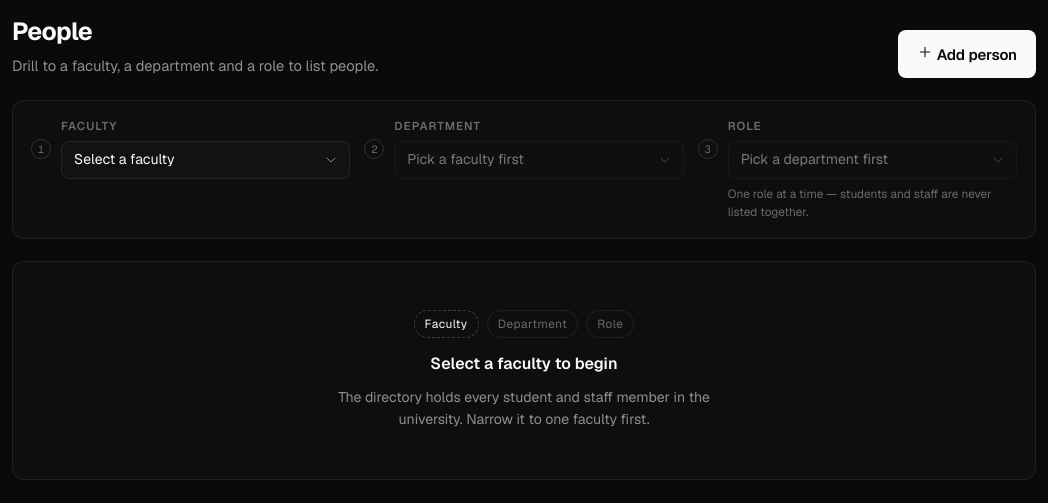
Test: PeoplePage drill-down › lists nobody until a faculty, department and role are chosen
Check: the text "Select a faculty to begin" is shown, box [430,352,618,377]
Select "NAS — Natural and Applied Sciences" in the dropdown named "Faculty" at (206, 160), box [61,141,350,179]
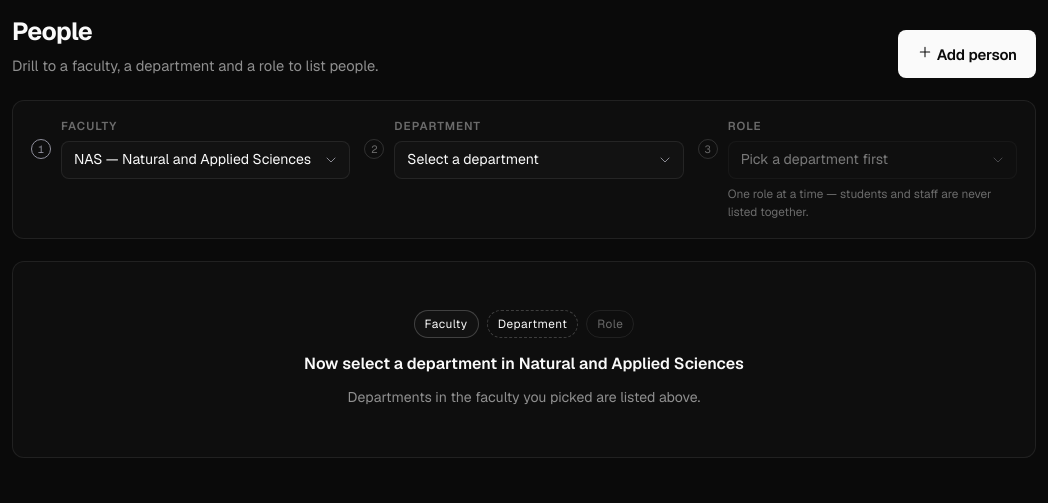
Check: the text "Now select a department in Natural and Applied Sciences" is shown, box [304,352,744,377]
Select "CSC — Computer Science" in the dropdown named "Department" at (539, 160), box [394,141,684,179]
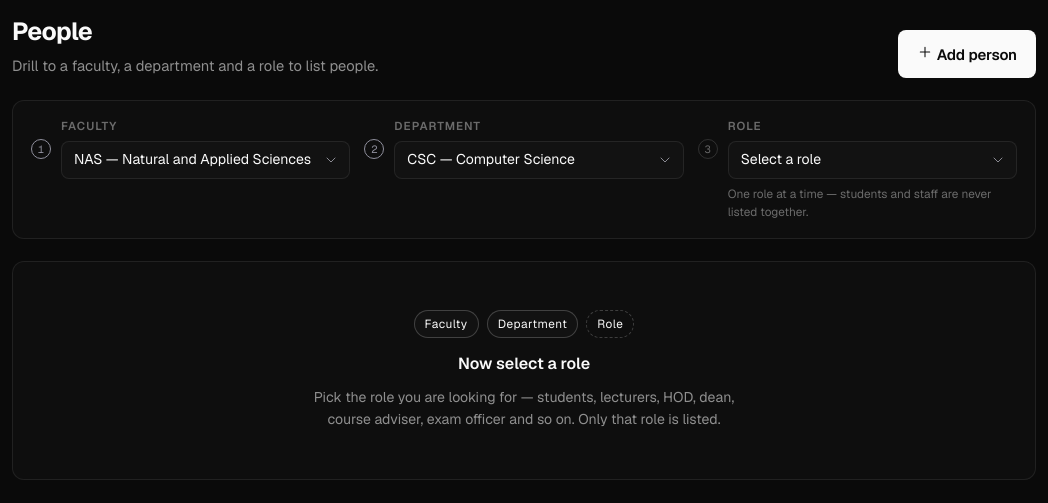
Check: the text "Now select a role" is shown, box [458,352,590,377]
Select "Student" in the dropdown named "Role" at (872, 160), box [728,141,1017,179]
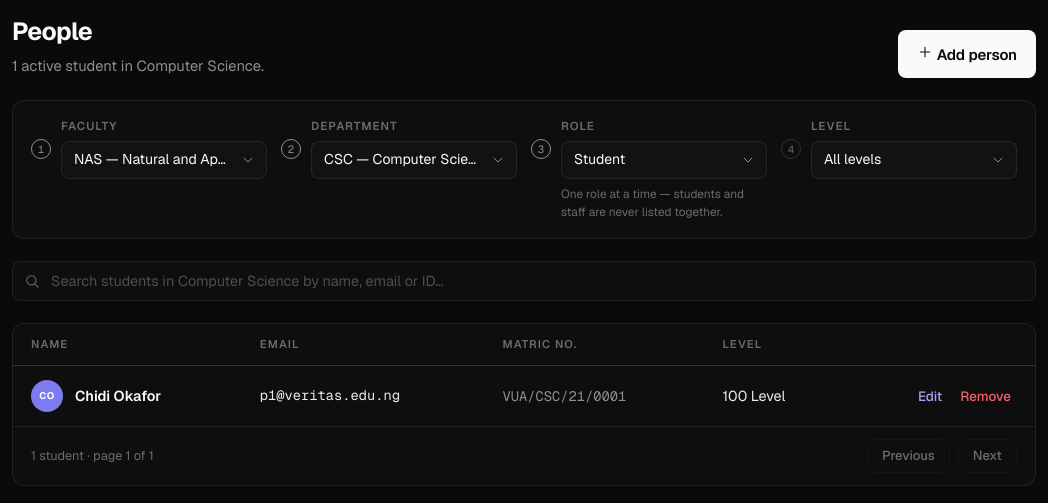
Check: the text "Chidi Okafor" is shown, box [75,385,161,407]
